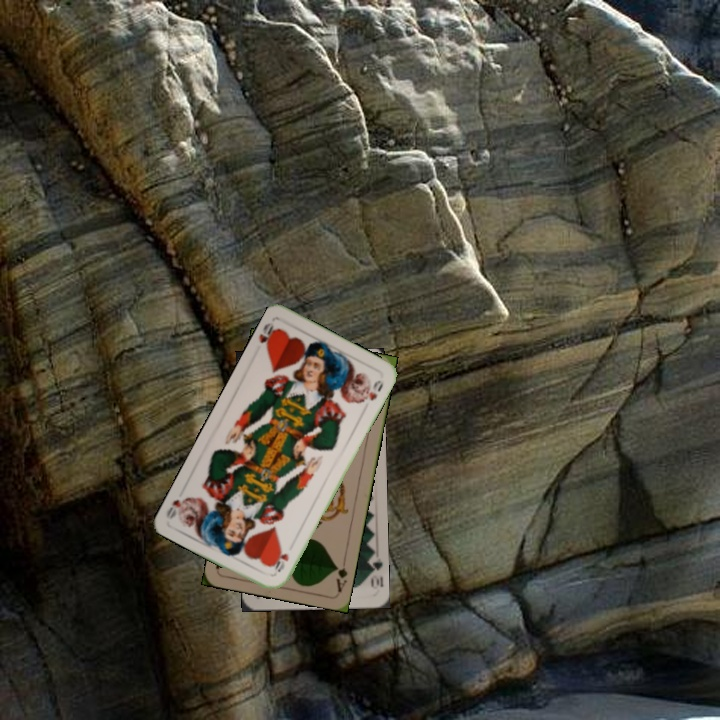G10: (365, 552, 385, 590)
GA: (331, 561, 350, 595)
HO: (255, 318, 282, 354), (270, 546, 291, 575)
